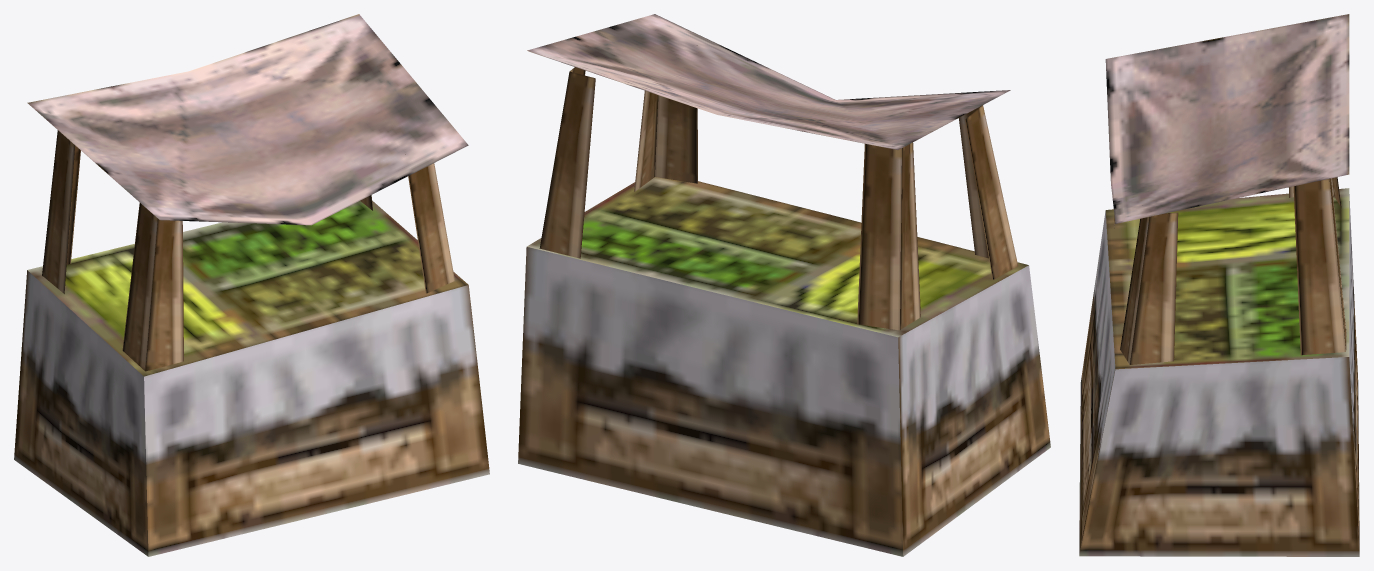
The model's file is idle.glb.
The picture shows the model from 3 angles, left to right: view 1: azimuth 30°, elevation 25°; view 2: azimuth 150°, elevation 25°; view 3: azimuth 270°, elevation 25°; orthographic projection. The views are drawn at different scales.
Parts seen in each view (by area): view 1: MeshRoot; view 2: MeshRoot; view 3: MeshRoot.
Boxes of the visible parts, x1,y1,x2,y2 form: MeshRoot: [14, 14, 489, 556]; MeshRoot: [518, 14, 1050, 556]; MeshRoot: [1079, 14, 1359, 556].
Size of the model in its own units: 2.13 by 2.17 by 1.45.
Materials: 1 (1 with a texture image).
